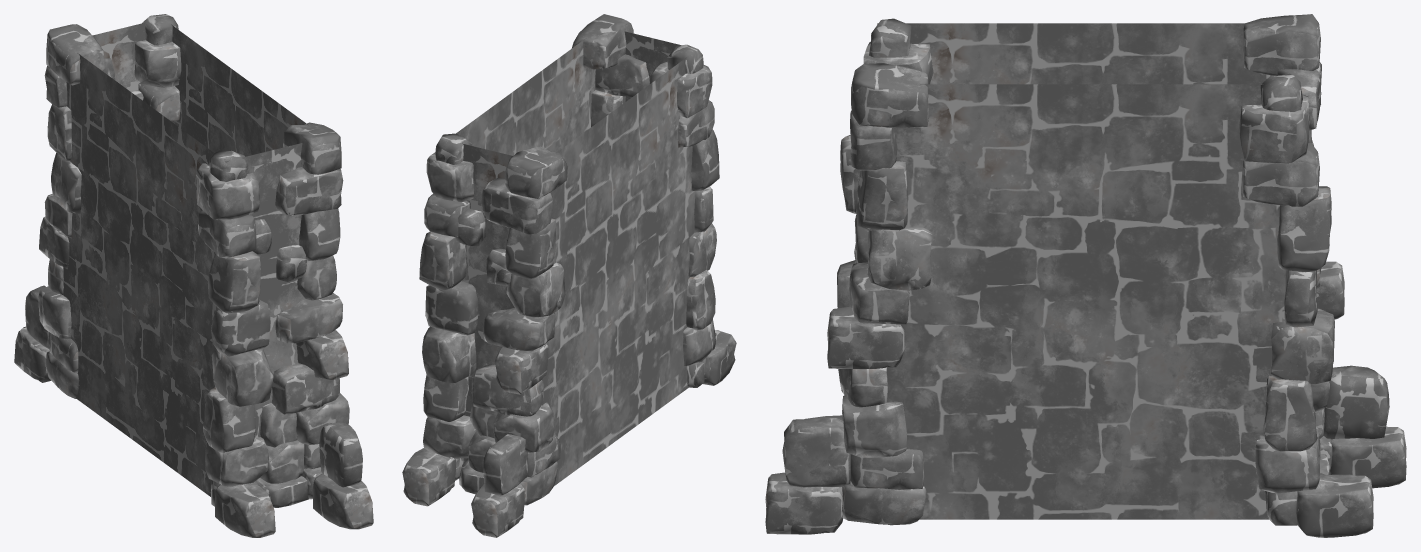
File: Wall_EndPiece_Left.fbx
The picture shows the model from 3 angles, left to right: view 1: azimuth 30°, elevation 25°; view 2: azimuth 150°, elevation 25°; view 3: azimuth 270°, elevation 25°; orthographic projection. The views are drawn at different scales.
Visible parts, largest first — view 1: Rocks_01.002, Wall_02.003; view 2: Rocks_01.002, Wall_02.003; view 3: Wall_02.003, Rocks_01.002.
Part boxes in pixels (x1,y1,x2,y2): Rocks_01.002: [14, 14, 373, 537]; Wall_02.003: [63, 22, 307, 496]; Rocks_01.002: [402, 14, 736, 537]; Wall_02.003: [455, 31, 695, 485]; Wall_02.003: [877, 23, 1285, 519]; Rocks_01.002: [765, 14, 1406, 537].
Size of the model in its own units: 2.02 by 5.28 by 6.67.
